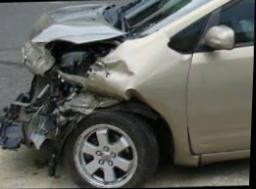Bonnet: (23, 1, 128, 73)
Bumper: (3, 91, 85, 156)
Fender: (31, 40, 192, 106)
